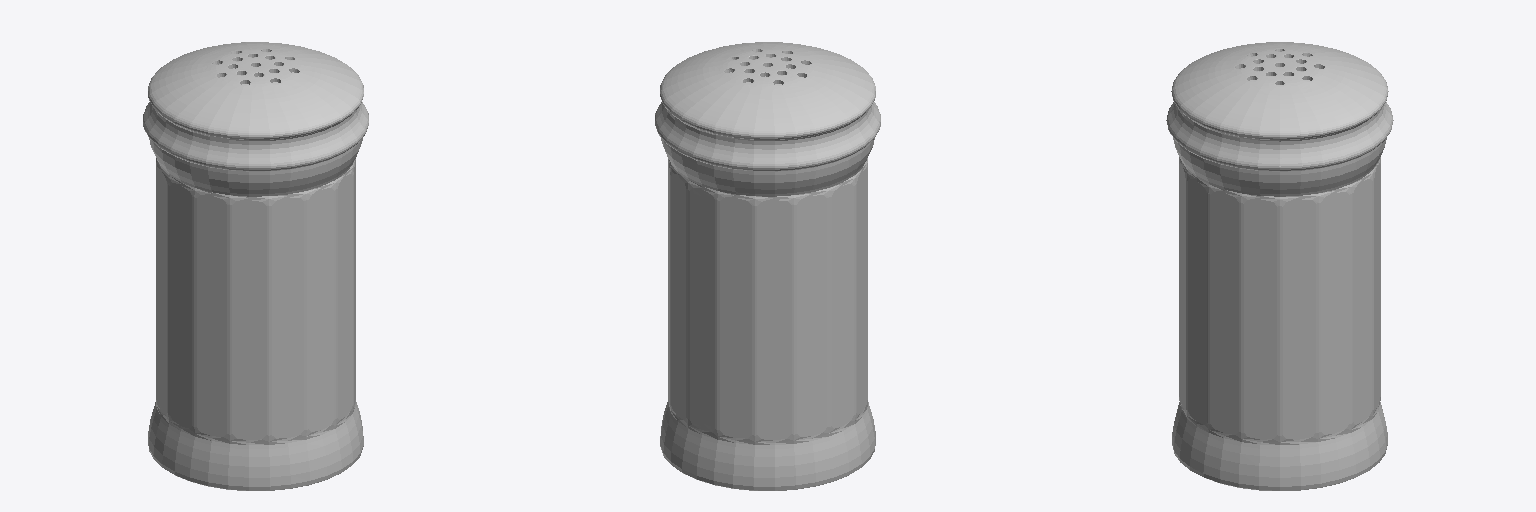
File: Saleiro.obj
3 views of the same model, side by side, from view 1: azimuth 30°, elevation 25°; view 2: azimuth 150°, elevation 25°; view 3: azimuth 270°, elevation 25° (orthographic).
Visible parts, largest first — view 1: _Sugar_Shaker_V2:_Sugar_Shaker; view 2: _Sugar_Shaker_V2:_Sugar_Shaker; view 3: _Sugar_Shaker_V2:_Sugar_Shaker.
Boxes of the visible parts, x1=… form: _Sugar_Shaker_V2:_Sugar_Shaker: x1=143, y1=42, x2=368, y2=490; _Sugar_Shaker_V2:_Sugar_Shaker: x1=655, y1=42, x2=880, y2=490; _Sugar_Shaker_V2:_Sugar_Shaker: x1=1166, y1=42, x2=1393, y2=490.
Size of the model in its own units: 0.1319 by 0.2449 by 0.1319.